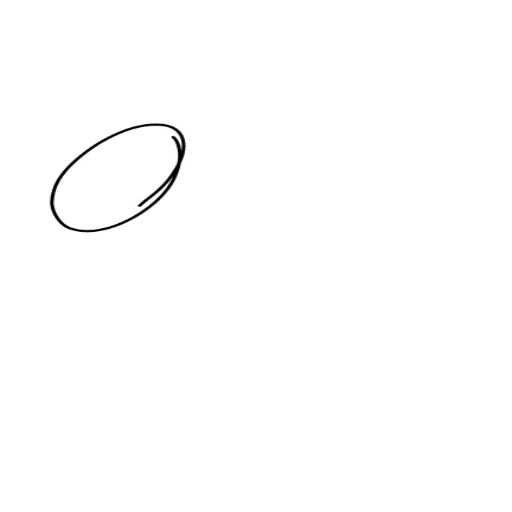circle: (48, 121, 188, 235)
